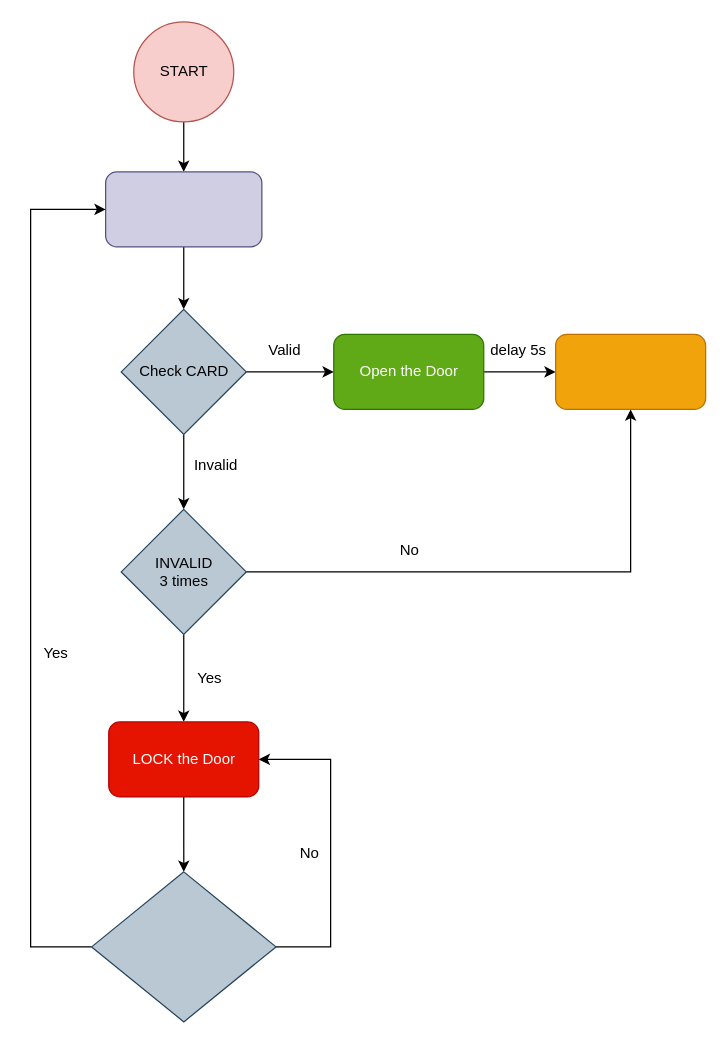
Image size: 728x1044. Some labels were removed from this diagram. Each missing label, with the centre of its shape:
"Close the Door" goes at point 630,371.
"SCAN CARD" goes at point 183,209.
"Unlock (from Thingsboard)" goes at point 183,946.
